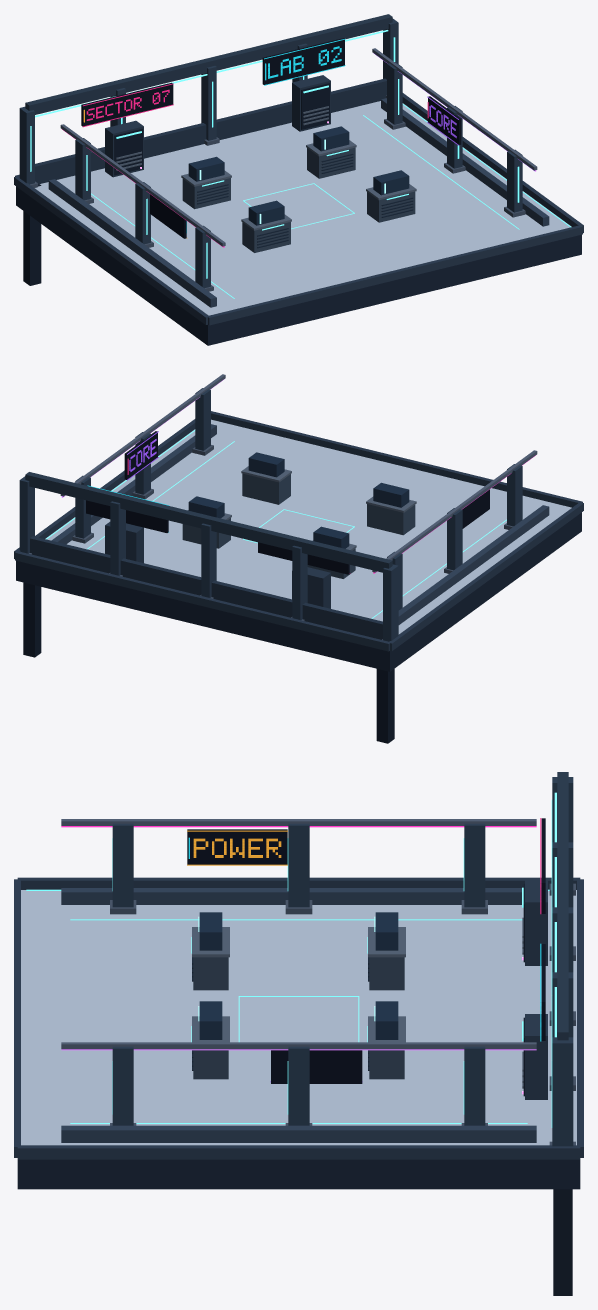
Rendered from arena.glb.
3 views of the same model, one above another, from view 1: azimuth 30°, elevation 25°; view 2: azimuth 150°, elevation 25°; view 3: azimuth 270°, elevation 25° (orthographic). The views are drawn at different scales.
Parts seen in each view (by area): view 1: 연구 구역, Floor_Alloy, Neon_LAB_02, Neon_SECTOR_07, Luminous_Lettering (×2), Neon_CORE, Neon_POWER; view 2: 연구 구역, Floor_Alloy, Neon_LAB_02, Neon_CORE, Neon_SECTOR_07, Neon_POWER; view 3: Floor_Alloy, 연구 구역, Neon_POWER, Neon_CORE, Luminous_Lettering.
Part boxes in pixels (x1,y1,x2,y2): 연구 구역: [14, 14, 583, 345]; Floor_Alloy: [35, 101, 571, 315]; Neon_LAB_02: [262, 38, 345, 85]; Neon_SECTOR_07: [81, 82, 173, 127]; Luminous_Lettering (×2): [86, 46, 341, 120]; Neon_CORE: [427, 96, 461, 145]; Neon_POWER: [150, 194, 187, 238]; 연구 구역: [14, 374, 583, 743]; Floor_Alloy: [45, 419, 571, 634]; Neon_LAB_02: [86, 485, 169, 532]; Neon_CORE: [124, 431, 158, 480]; Neon_SECTOR_07: [258, 542, 350, 574]; Neon_POWER: [462, 489, 489, 528]; Floor_Alloy: [21, 890, 576, 1145]; 연구 구역: [14, 772, 583, 1295]; Neon_POWER: [187, 829, 287, 865]; Neon_CORE: [270, 1050, 362, 1083]; Luminous_Lettering: [193, 838, 281, 857].
Bounding box in the file's own units: 36.4 × 16.5 × 32.4.
